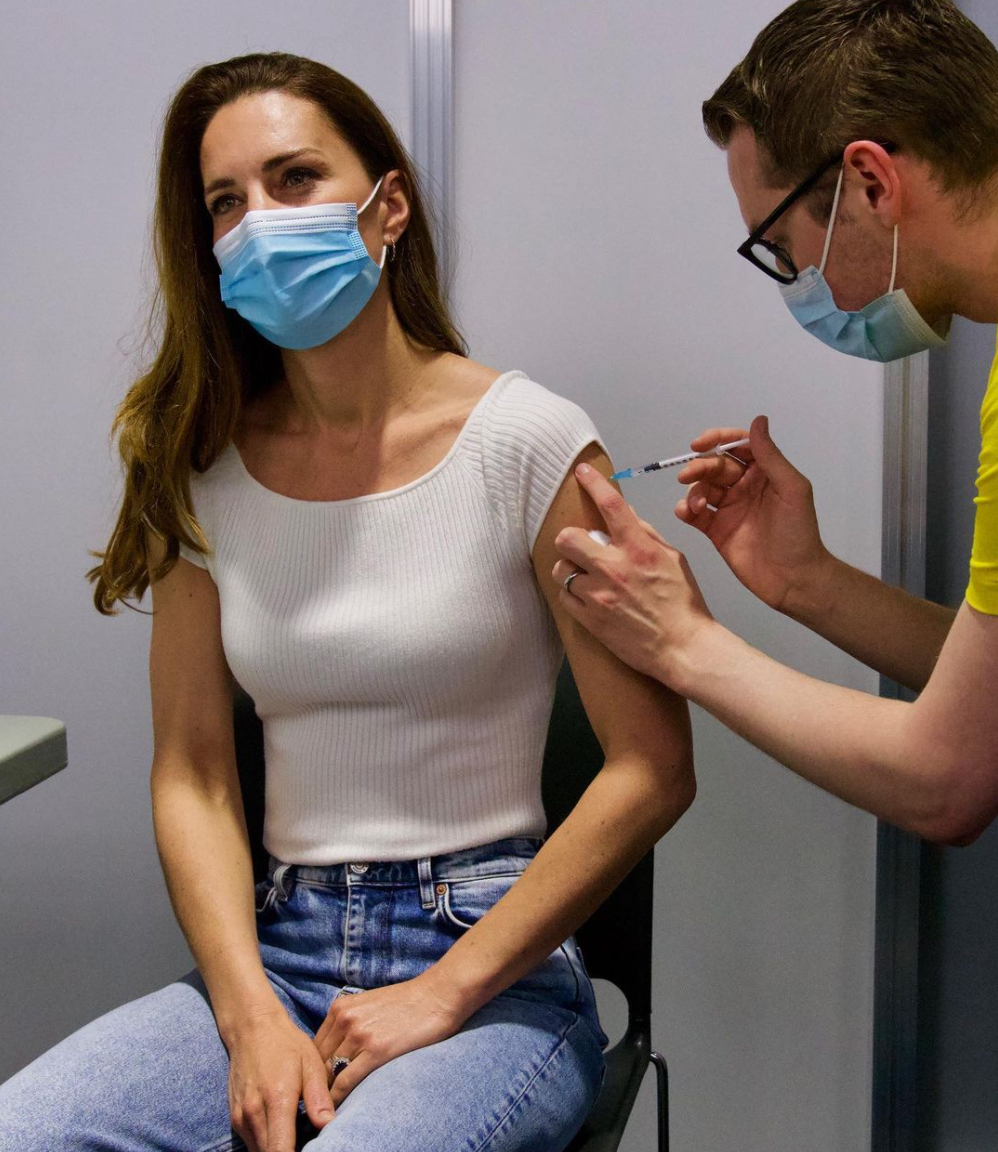with_mask: (734, 89, 971, 356), (201, 104, 366, 320)
